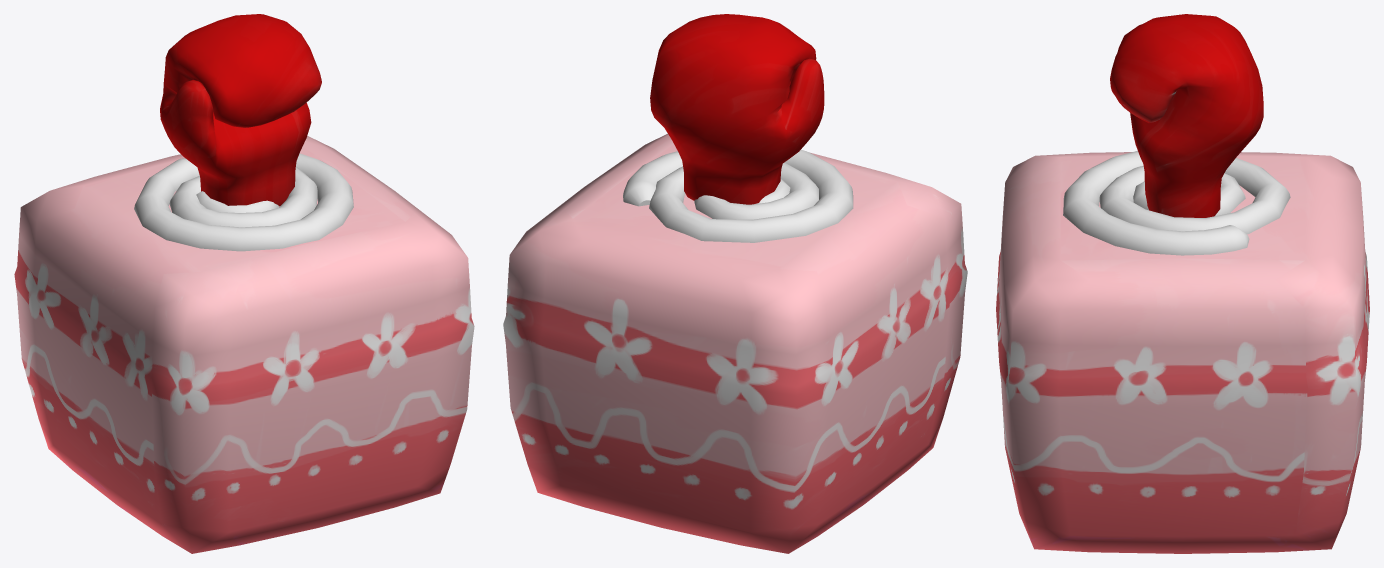
Rendered from boxing.fbx.
3 views of the same model, side by side, from view 1: azimuth 30°, elevation 25°; view 2: azimuth 150°, elevation 25°; view 3: azimuth 270°, elevation 25° (orthographic). The views are drawn at different scales.
Parts seen in each view (by area): view 1: polySurface6, polySurface1, polySurface7; view 2: polySurface6, polySurface1, polySurface7; view 3: polySurface6, polySurface1, polySurface7.
Part boxes in pixels (bbox=[...]): polySurface6: bbox=[14, 136, 474, 553]; polySurface1: bbox=[160, 14, 321, 206]; polySurface7: bbox=[134, 153, 353, 251]; polySurface6: bbox=[503, 133, 967, 553]; polySurface1: bbox=[650, 14, 824, 204]; polySurface7: bbox=[623, 150, 853, 242]; polySurface6: bbox=[996, 152, 1369, 553]; polySurface1: bbox=[1110, 14, 1263, 217]; polySurface7: bbox=[1063, 151, 1290, 255].
Size of the model in its own units: 1.15 by 1.62 by 1.15.
Materials: 3 (2 with a texture image).
